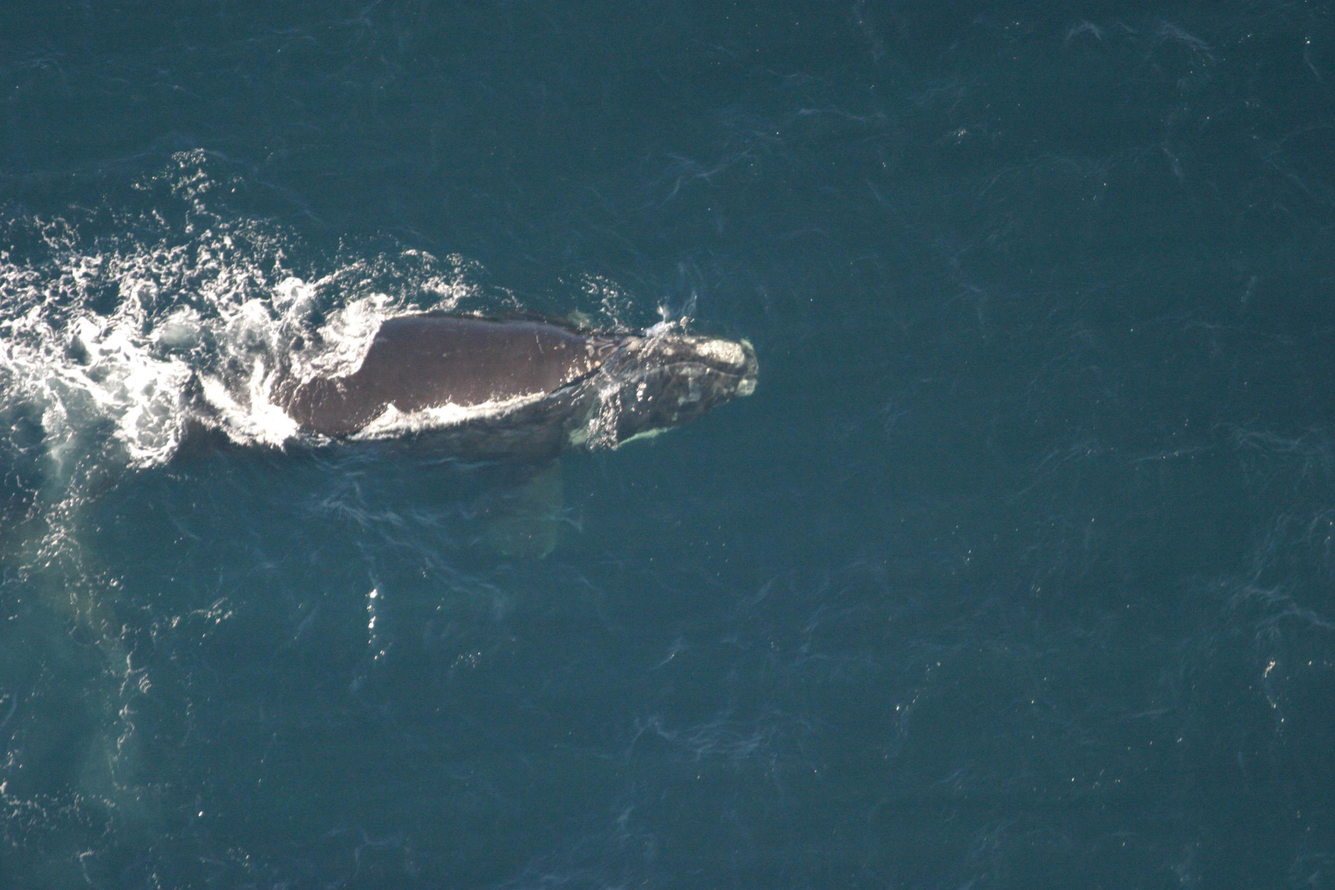whale: (7, 301, 765, 574)
